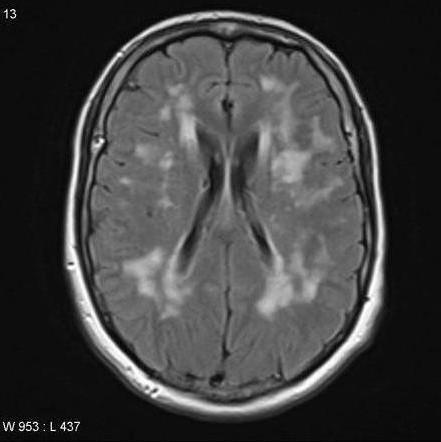Normal_Brain: (1, 1, 441, 442)
